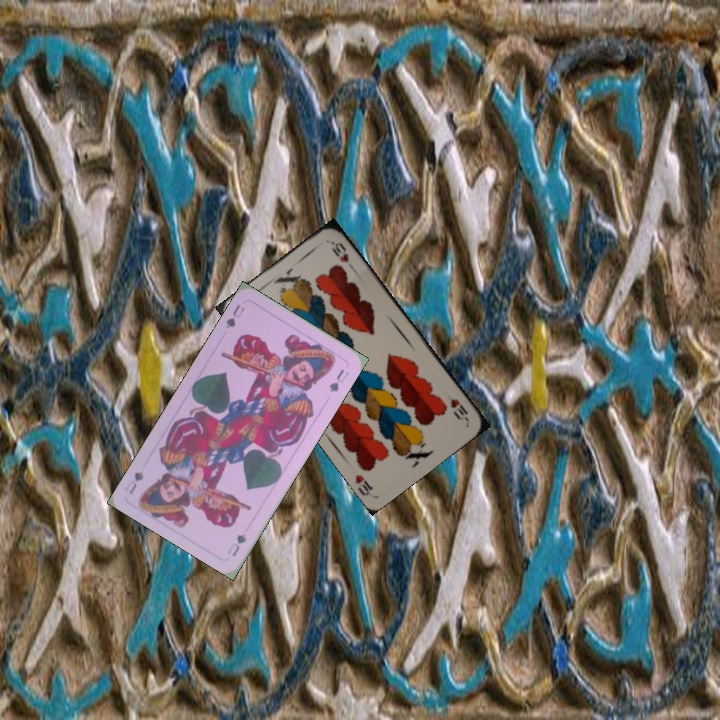GU: (222, 300, 248, 331), (223, 530, 249, 559)
H10: (442, 389, 471, 423)
